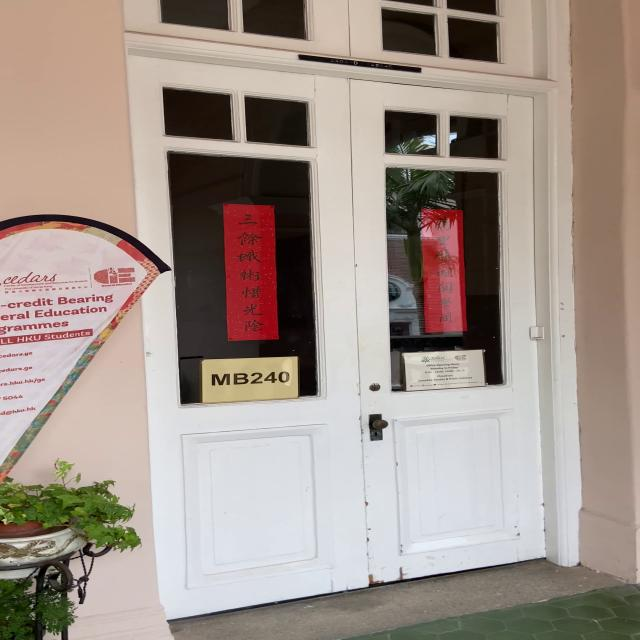room240: (202, 357, 300, 400)
